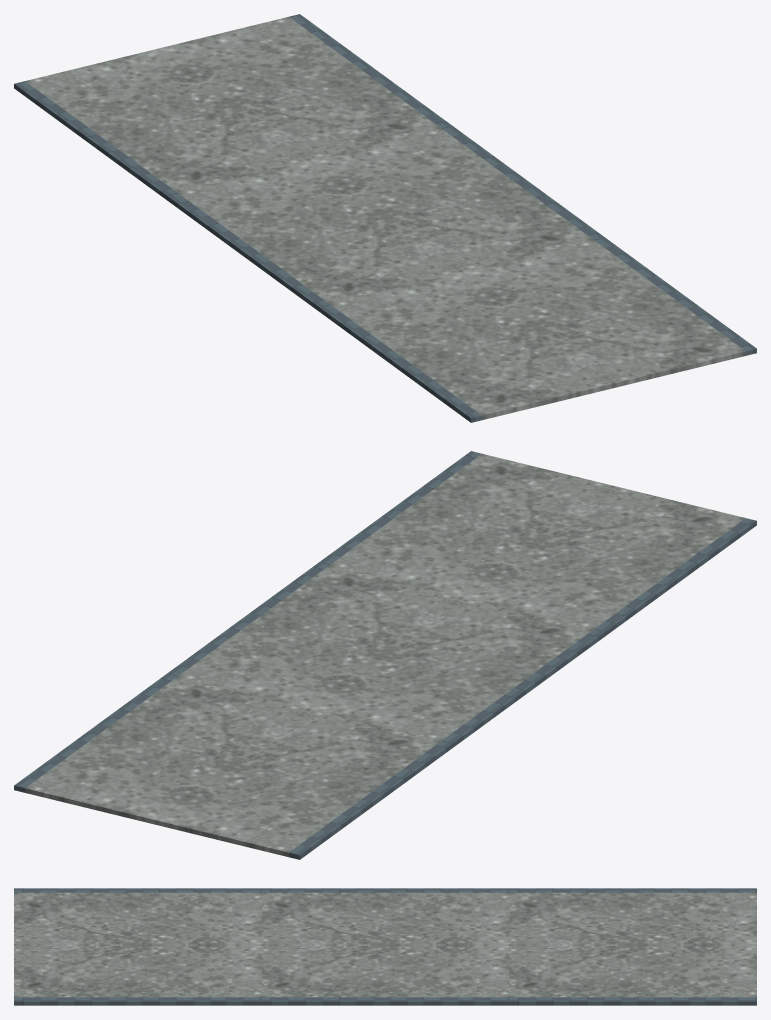
The model's file is BasicRoad 3.fbx.
The picture shows the model from 3 angles, top to bottom: view 1: azimuth 30°, elevation 25°; view 2: azimuth 150°, elevation 25°; view 3: azimuth 270°, elevation 25°; orthographic projection. The views are drawn at different scales.
Parts seen in each view (by area): view 1: BasicRoad 3; view 2: BasicRoad 3; view 3: BasicRoad 3.
Boxes of the visible parts, x1=… form: BasicRoad 3: x1=14, y1=14, x2=756, y2=422; BasicRoad 3: x1=14, y1=451, x2=756, y2=859; BasicRoad 3: x1=14, y1=888, x2=756, y2=1005.
Size of the model in its own units: 650 by 10 by 1800.
